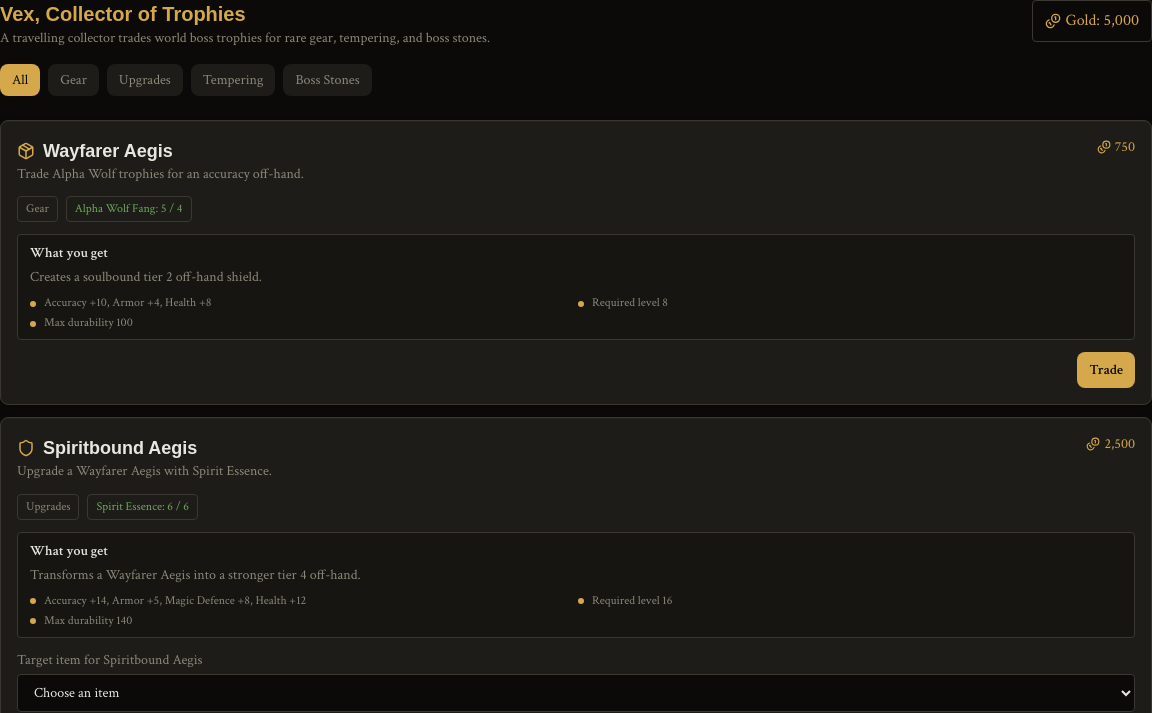
VexScreen › purchases an exchange, applies state updates, shows success, and refreshes exchanges
This screenshot has width=1152, height=713.
expect the heading "Wayfarer Aegis" is shown: met, box [43,137,173,165]
Click the button with aria-label "Trade Wayfarer Aegis".
click(1106, 370)  # box [1078,352,1135,388]
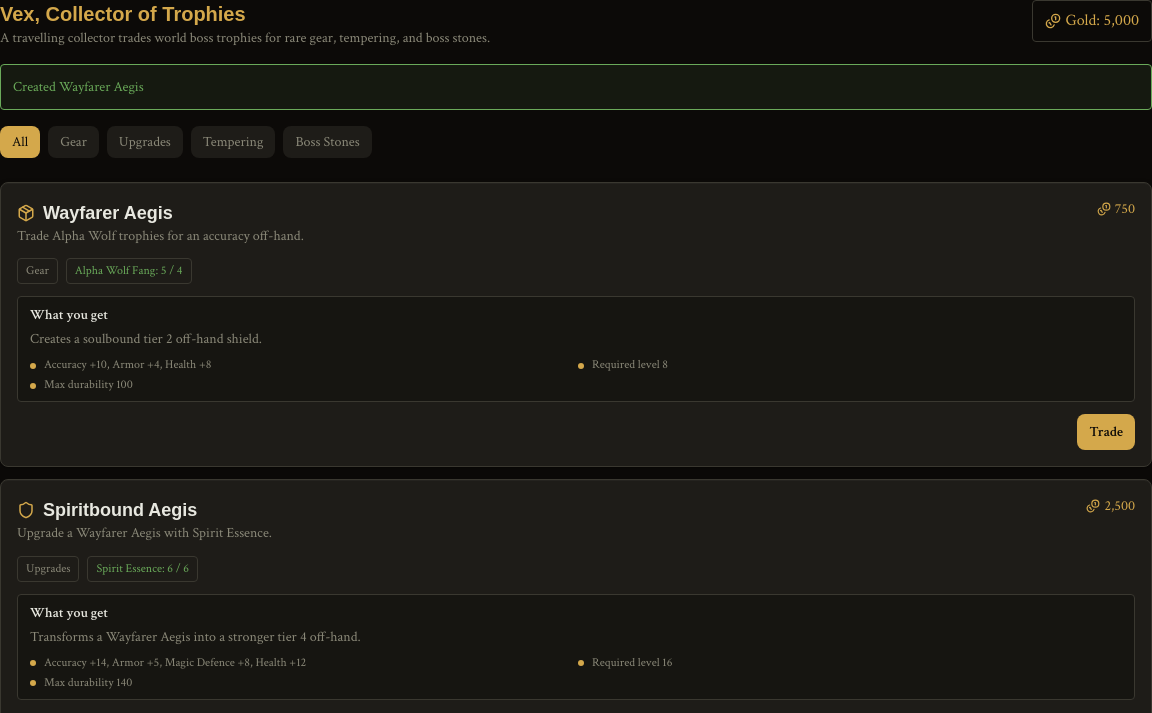
expect the text "Created Wayfarer Aegis" is shown: met, box [0,64,1151,110]
